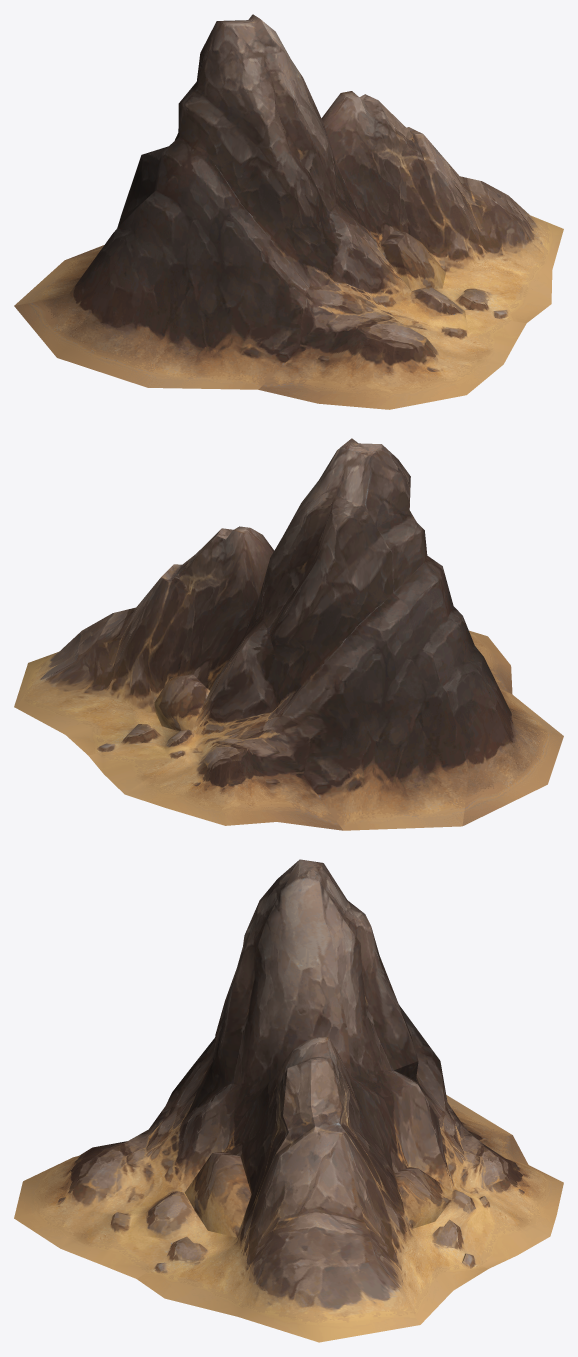
File: sm_shitou_3.FBX
3 renders of one model, top to bottom at view 1: azimuth 30°, elevation 25°; view 2: azimuth 150°, elevation 25°; view 3: azimuth 270°, elevation 25°, orthographic. The views are drawn at different scales.
Visible parts, largest first — view 1: sm_shitou_3; view 2: sm_shitou_3; view 3: sm_shitou_3.
Part boxes in pixels (x1,y1,x2,y2): sm_shitou_3: [14, 14, 563, 409]; sm_shitou_3: [14, 438, 563, 830]; sm_shitou_3: [14, 859, 563, 1342].
Bounding box in the file's own units: 170 × 93.75 × 152.
